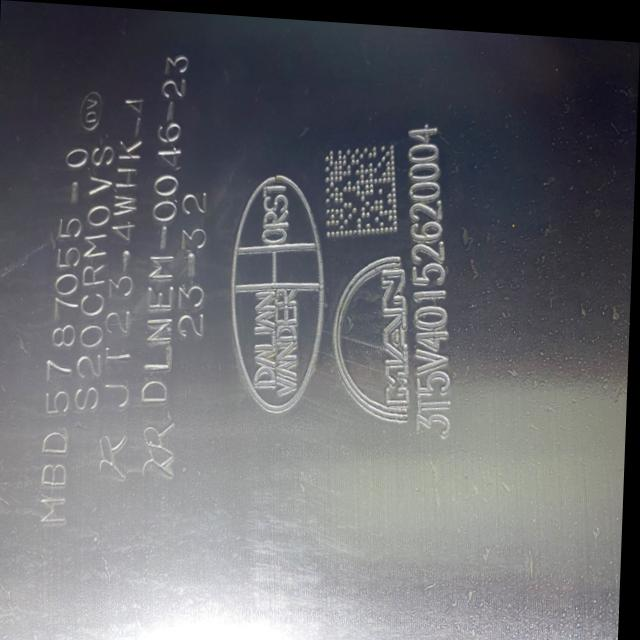dmc: (325, 139, 398, 232)
